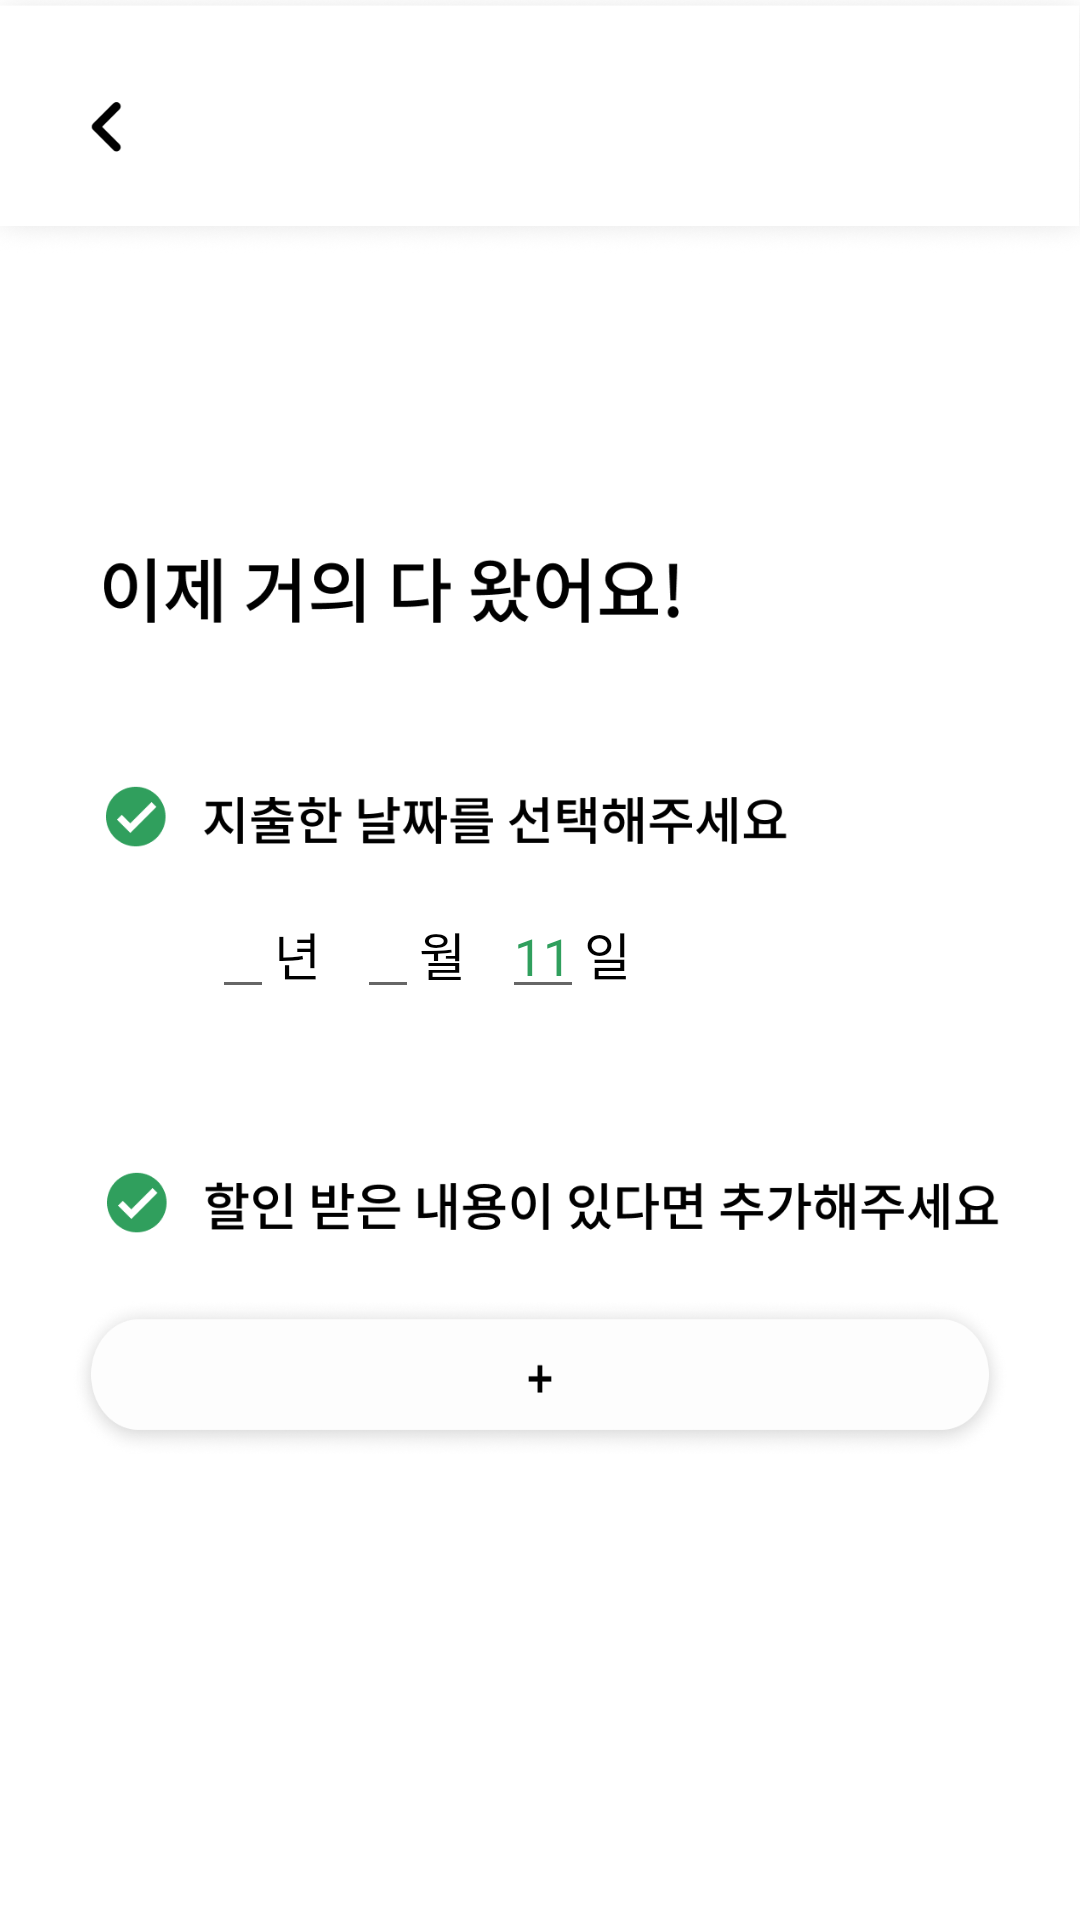

Icon bounding boxes for this 1080×1920 phone screenshot, format box=[x1, y1, x2, y2]:
cameraadd back: box=[91, 102, 121, 152]
